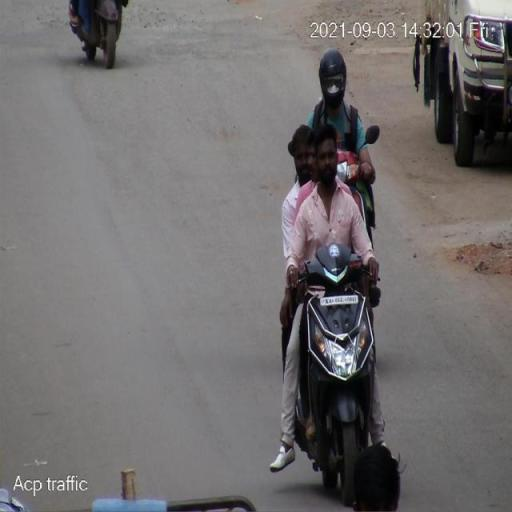tripple riding: (280, 121, 376, 294)
